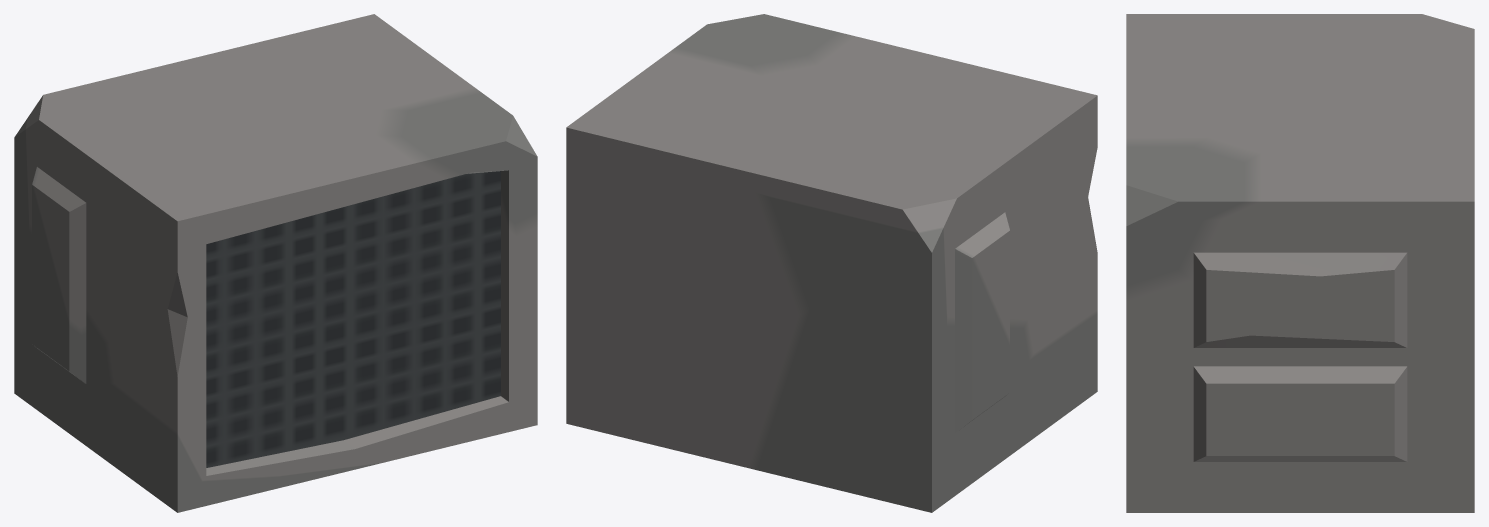
The model's file is SM_Prop_Airconditioner_05.fbx.
The picture shows the model from 3 angles, left to right: view 1: azimuth 30°, elevation 25°; view 2: azimuth 150°, elevation 25°; view 3: azimuth 270°, elevation 25°; orthographic projection. The views are drawn at different scales.
Parts seen in each view (by area): view 1: SM_Prop_Airconditioner_05; view 2: SM_Prop_Airconditioner_05; view 3: SM_Prop_Airconditioner_05.
Boxes of the visible parts, x1,y1,x2,y2 form: SM_Prop_Airconditioner_05: (14, 14, 537, 512); SM_Prop_Airconditioner_05: (566, 14, 1097, 512); SM_Prop_Airconditioner_05: (1126, 14, 1474, 512).
Size of the model in its own units: 84.1 by 61.37 by 62.27.
